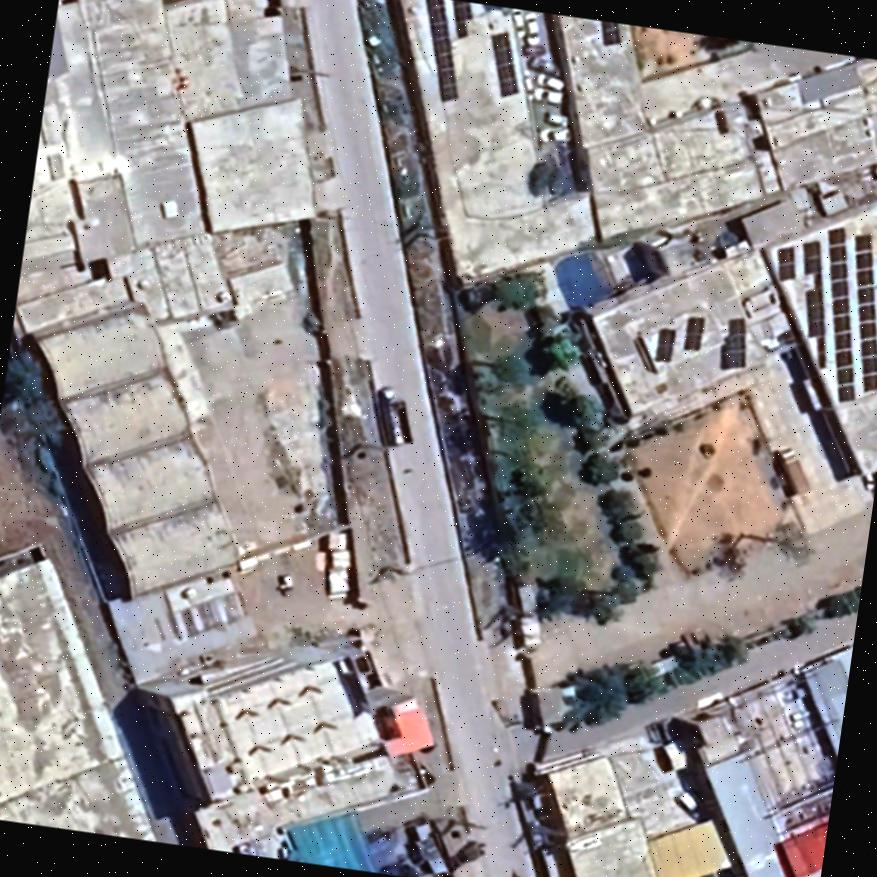Solarpanel: (822, 222, 877, 411), (421, 0, 480, 103), (796, 228, 827, 374), (482, 24, 522, 102), (722, 311, 752, 372), (643, 322, 678, 370), (766, 239, 797, 288), (677, 309, 708, 354), (595, 20, 629, 50)
